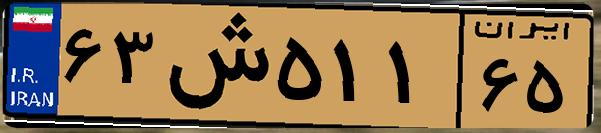1: (385, 28, 445, 110), (330, 28, 385, 110)
3: (110, 28, 158, 98)
5: (270, 28, 330, 110), (525, 38, 570, 115)
6: (57, 26, 110, 100), (475, 38, 525, 113)
ش: (158, 12, 270, 120)
